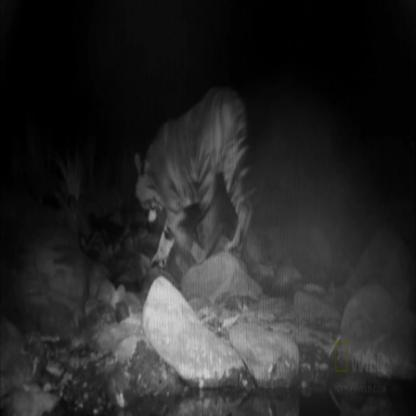Tiger: (136, 82, 284, 262)
